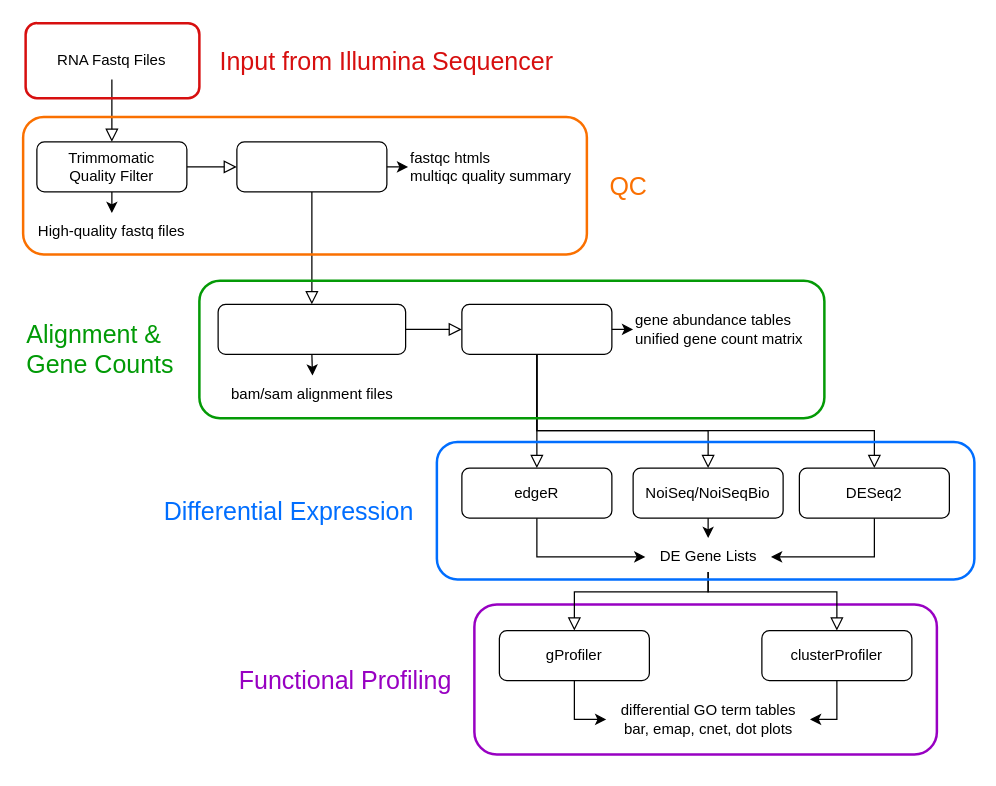
This 996x786 diagram has some shape labels left out. The shapes that lost their labels are listed below. From the top down, each one's centre as x and y in pixels, then its label:
the point at 311,166: FastQC/MultiQC Quality Check
the point at 311,328: STAR Alignment to Reference
the point at 536,328: Stringtie Gene Counting
